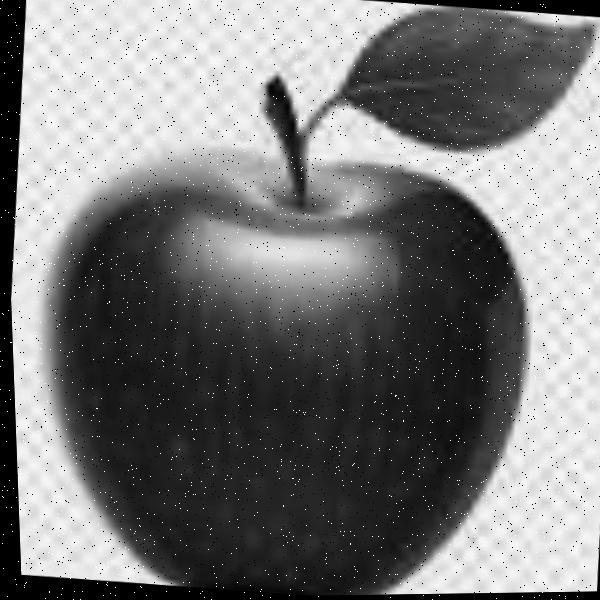HEALTHY: (4, 96, 569, 600)
